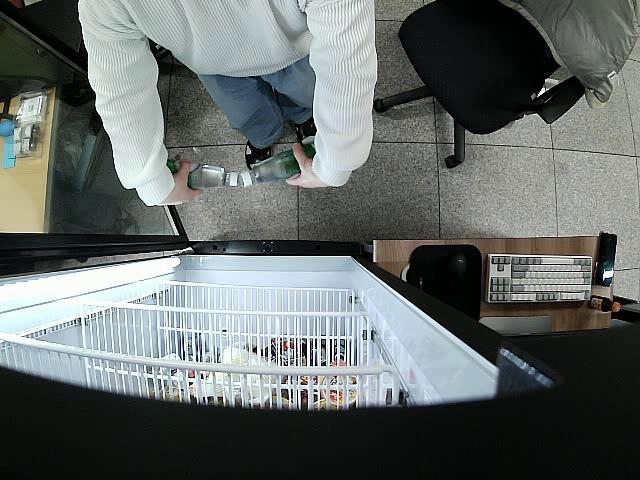00_hand: (287, 141, 329, 187), (166, 156, 204, 206)
18_trevi: (239, 139, 316, 188), (166, 155, 239, 191)
